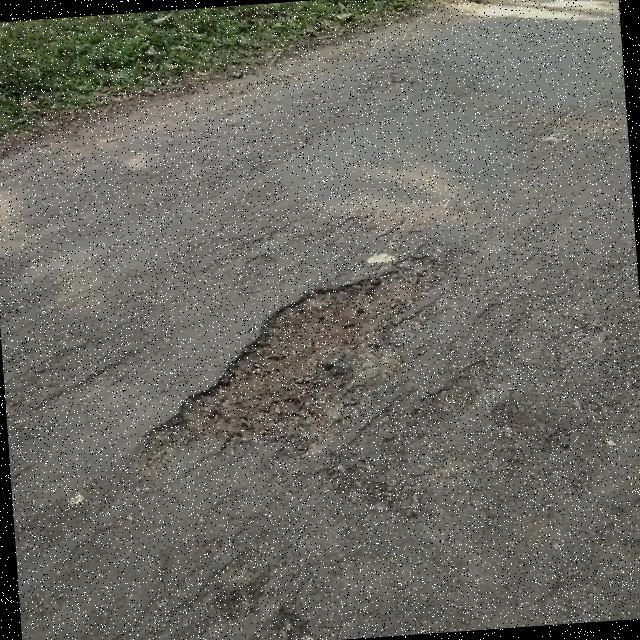Pothole: (146, 274, 432, 470)
